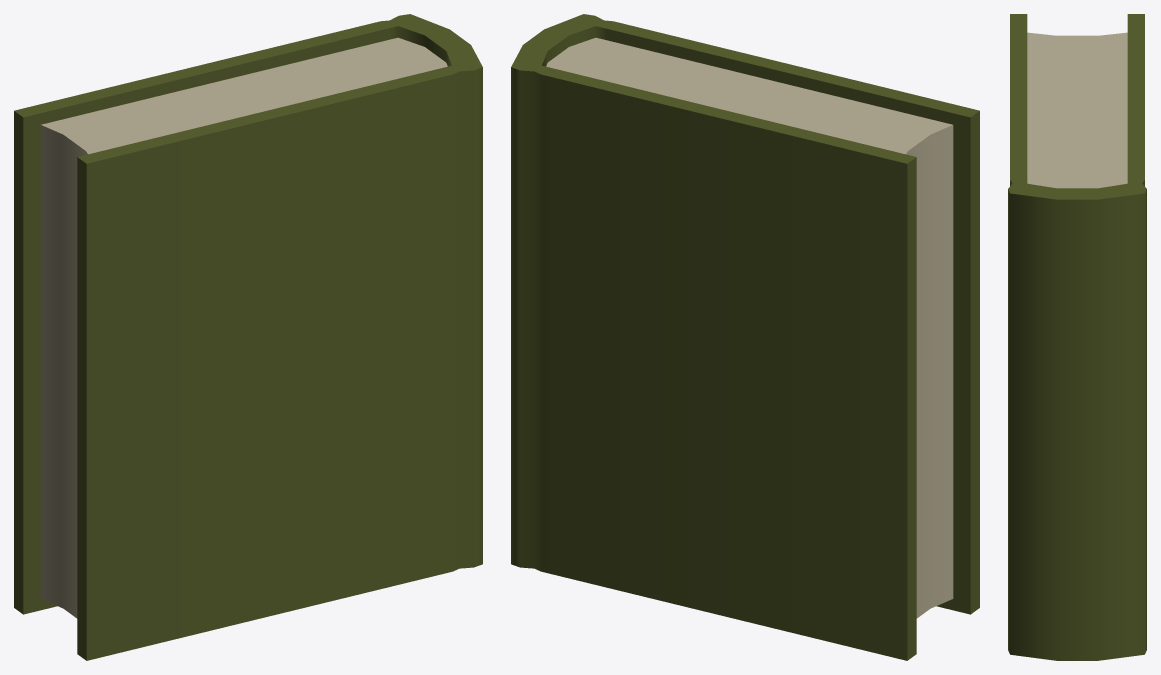
File: Book_Green.glb
3 renders of one model, left to right at view 1: azimuth 30°, elevation 25°; view 2: azimuth 150°, elevation 25°; view 3: azimuth 270°, elevation 25°, orthographic. The views are drawn at different scales.
Visible parts, largest first — view 1: Book_Green; view 2: Book_Green; view 3: Book_Green.
Part boxes in pixels (x1=…): Book_Green: x1=14, y1=14, x2=482, y2=660; Book_Green: x1=511, y1=14, x2=979, y2=660; Book_Green: x1=1008, y1=14, x2=1146, y2=660.
Size of the model in its own units: 0.3378 by 0.3913 by 0.1068.
Materials: 2 (2 with a texture image).
